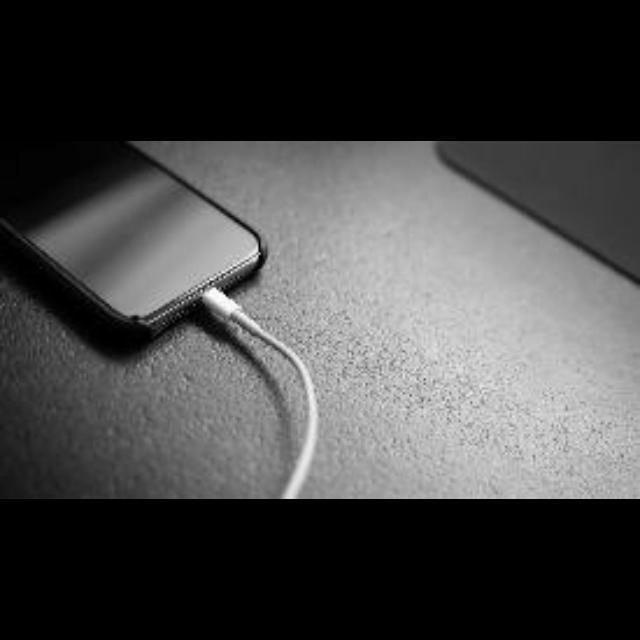fake: (0, 141, 379, 362)
